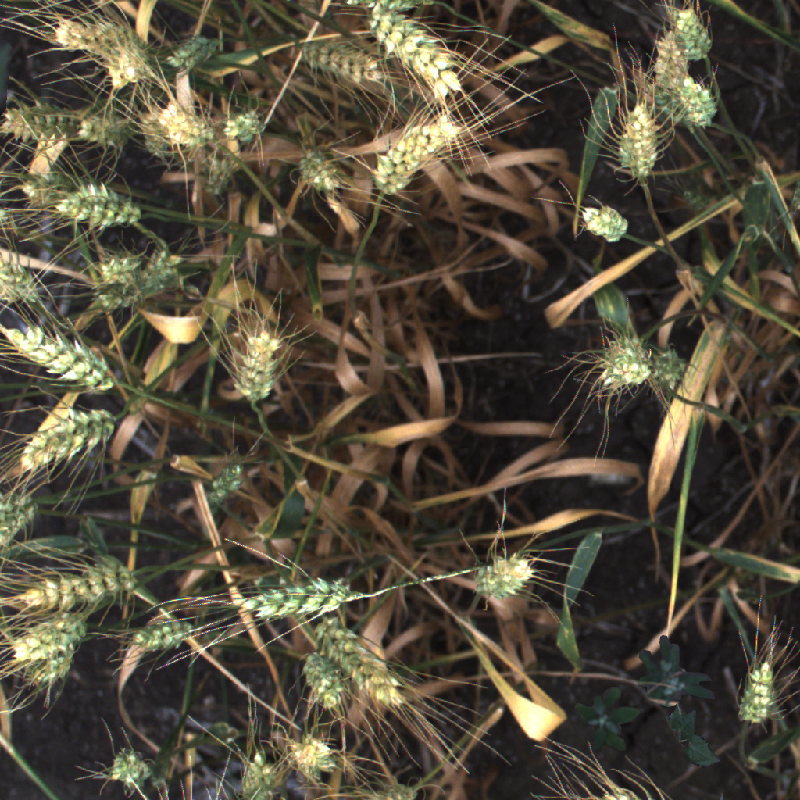spikelet: (352, 1, 471, 96), (2, 315, 125, 401), (310, 613, 409, 714), (364, 110, 472, 195), (3, 551, 142, 614), (289, 25, 396, 92), (602, 95, 667, 189), (227, 574, 350, 623), (43, 7, 153, 60), (17, 409, 110, 469), (123, 604, 203, 662), (148, 96, 224, 154), (662, 1, 725, 64), (289, 139, 356, 198), (473, 546, 540, 603), (234, 331, 289, 400), (97, 36, 164, 92), (38, 618, 85, 695), (53, 181, 135, 225), (664, 73, 723, 132), (1, 93, 76, 139), (594, 332, 650, 387), (1, 481, 39, 550), (303, 657, 348, 715), (214, 105, 276, 147), (1, 257, 45, 313), (91, 254, 140, 304), (734, 660, 770, 721), (285, 734, 335, 777), (650, 30, 687, 86), (75, 110, 138, 142), (164, 31, 217, 68), (204, 465, 255, 503), (6, 621, 57, 658), (583, 203, 627, 244), (636, 350, 687, 385), (241, 751, 276, 798), (111, 750, 154, 785), (147, 248, 182, 289), (204, 157, 231, 193)
weed: (638, 635, 715, 707), (662, 697, 724, 775), (575, 687, 640, 754)
